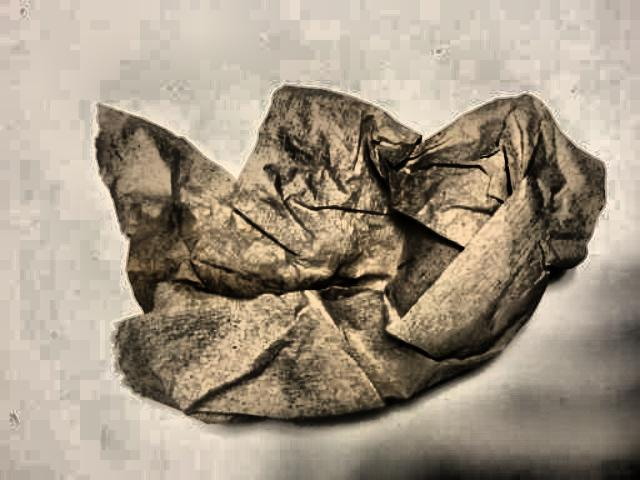Paper: (54, 68, 610, 426)
